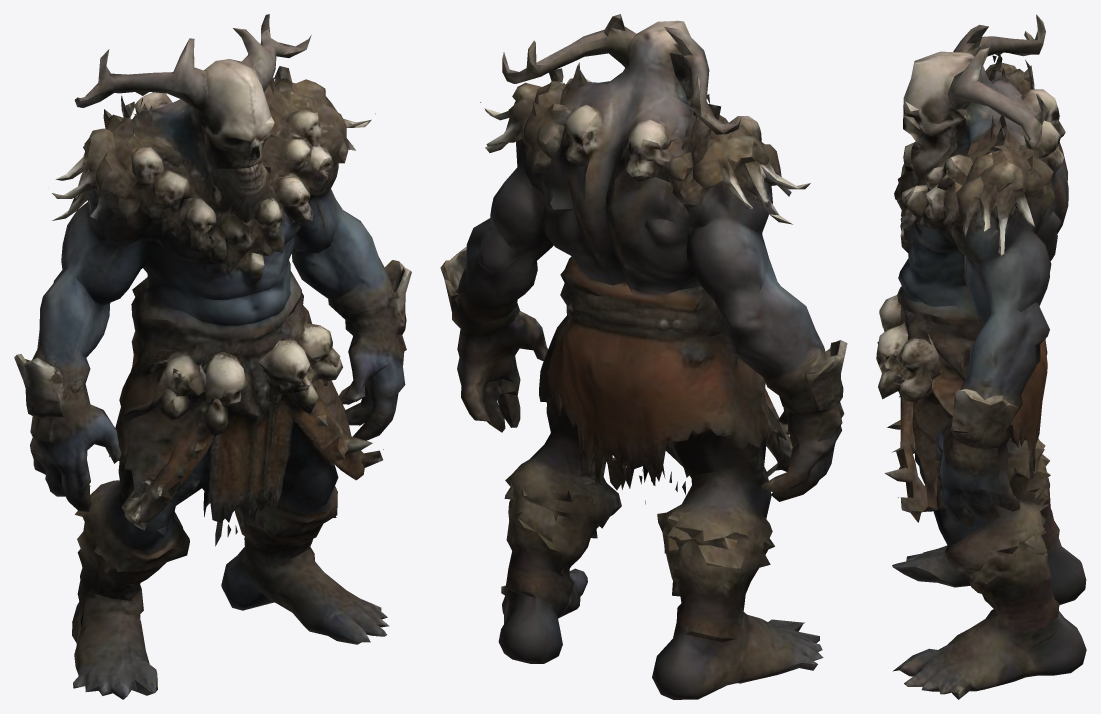
File: brute_skull_shoulders_lod0.glb
3 views of the same model, side by side, from view 1: azimuth 30°, elevation 25°; view 2: azimuth 150°, elevation 25°; view 3: azimuth 270°, elevation 25° (orthographic). The views are drawn at different scales.
Visible parts, largest first — view 1: brute_skull_shoulders_lod0; view 2: brute_skull_shoulders_lod0; view 3: brute_skull_shoulders_lod0.
Part boxes in pixels (bbox=[...]): brute_skull_shoulders_lod0: bbox=[14, 14, 411, 699]; brute_skull_shoulders_lod0: bbox=[440, 14, 847, 699]; brute_skull_shoulders_lod0: bbox=[876, 14, 1086, 699].
Size of the model in its own units: 1.65 by 2.49 by 0.798.
Materials: 1 (1 with a texture image).
